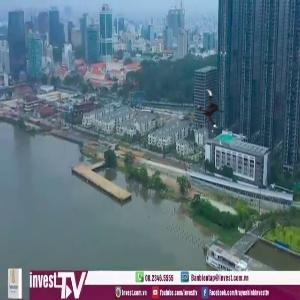drone: (188, 89, 233, 134)
